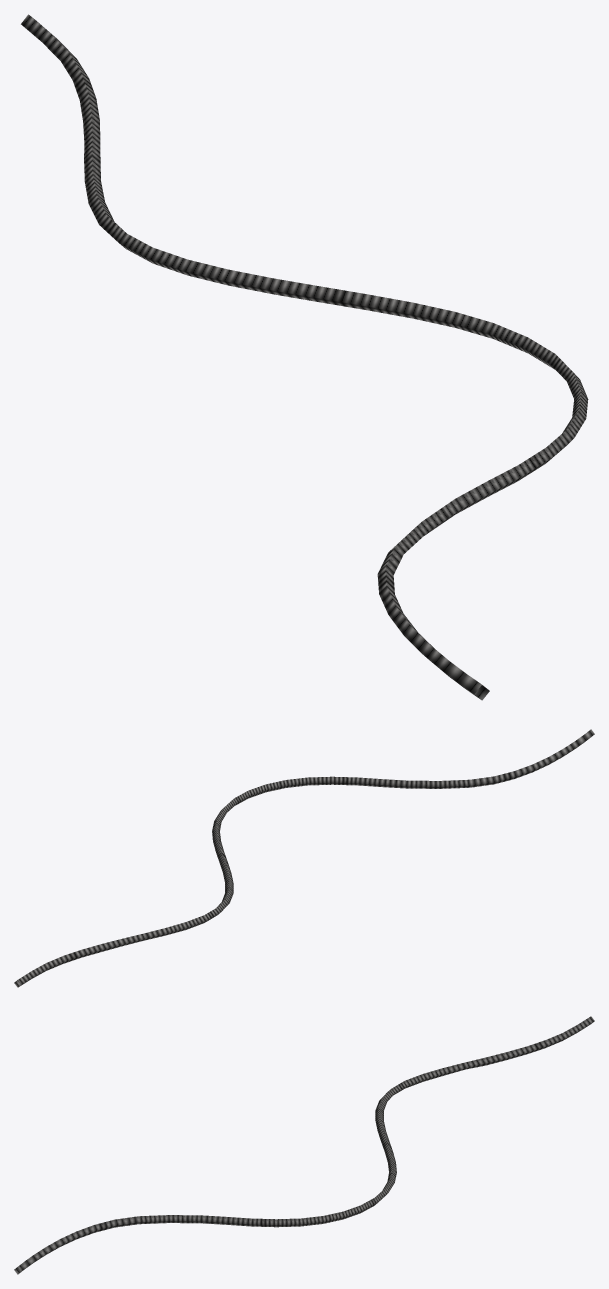
File: Hose_C.fbx
3 renders of one model, top to bottom at view 1: azimuth 30°, elevation 25°; view 2: azimuth 150°, elevation 25°; view 3: azimuth 330°, elevation 25°, orthographic. The views are drawn at different scales.
Visible parts, largest first — view 1: extrudedSurface1; view 2: extrudedSurface1; view 3: extrudedSurface1.
Boxes of the visible parts, x1,y1,x2,y2 form: extrudedSurface1: [21, 14, 588, 700]; extrudedSurface1: [14, 729, 594, 987]; extrudedSurface1: [14, 1016, 594, 1274].
Bounding box in the file's own units: 14.13 × 0.5313 × 48.01.
